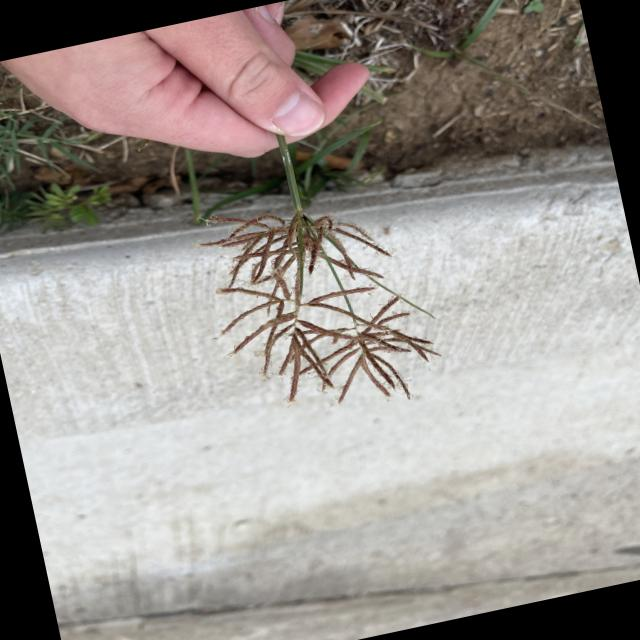cyperus: (192, 172, 458, 432)
